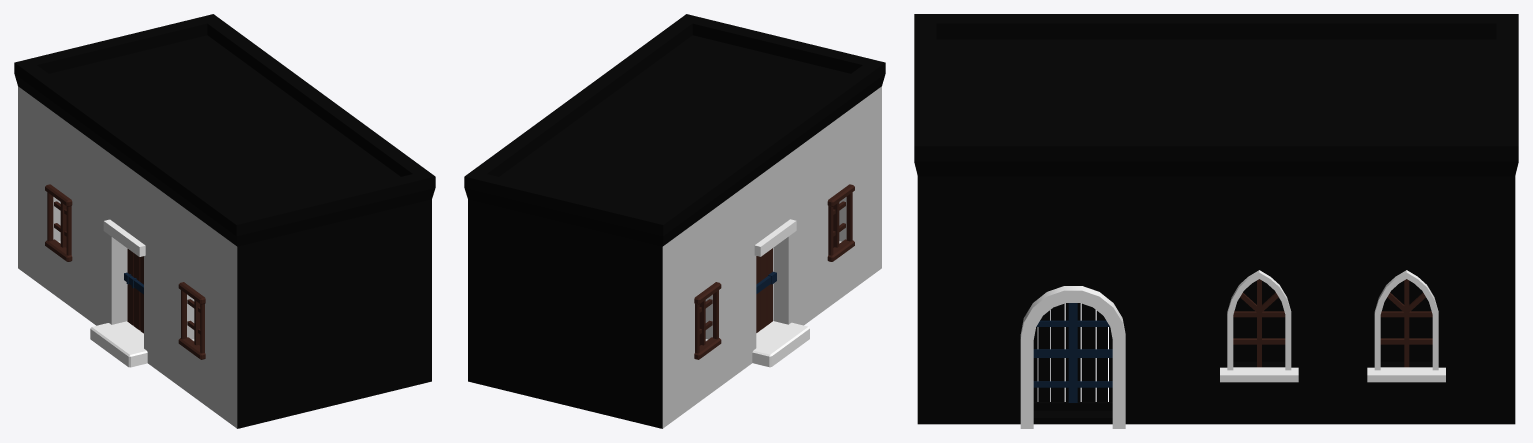
Rendered from civilian_house_38_a.FBX.
3 views of the same model, side by side, from view 1: azimuth 30°, elevation 25°; view 2: azimuth 150°, elevation 25°; view 3: azimuth 270°, elevation 25° (orthographic). The views are drawn at different scales.
Parts seen in each view (by area): view 1: civilian_house_38_a; view 2: civilian_house_38_a; view 3: civilian_house_38_a.
Part boxes in pixels (box(x1,y1,x2,y2)): civilian_house_38_a: box(14, 14, 435, 428); civilian_house_38_a: box(464, 14, 885, 428); civilian_house_38_a: box(914, 14, 1518, 428).
Size of the model in its own units: 591 by 516 by 1012.
